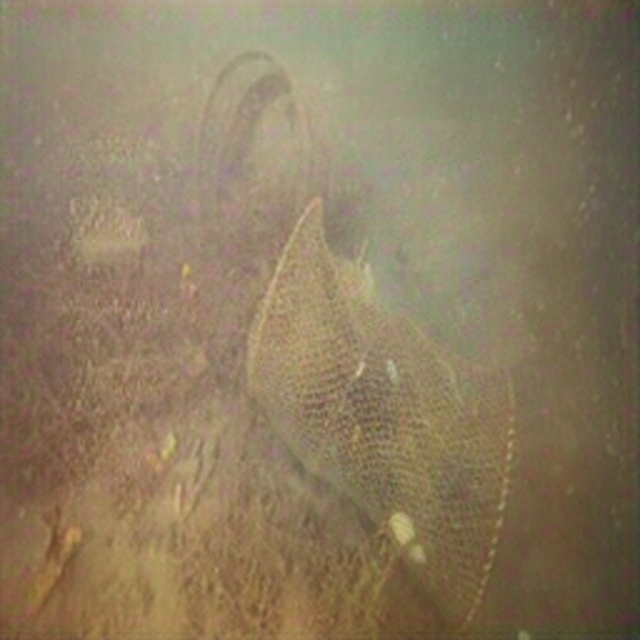mine: (243, 193, 517, 630)
